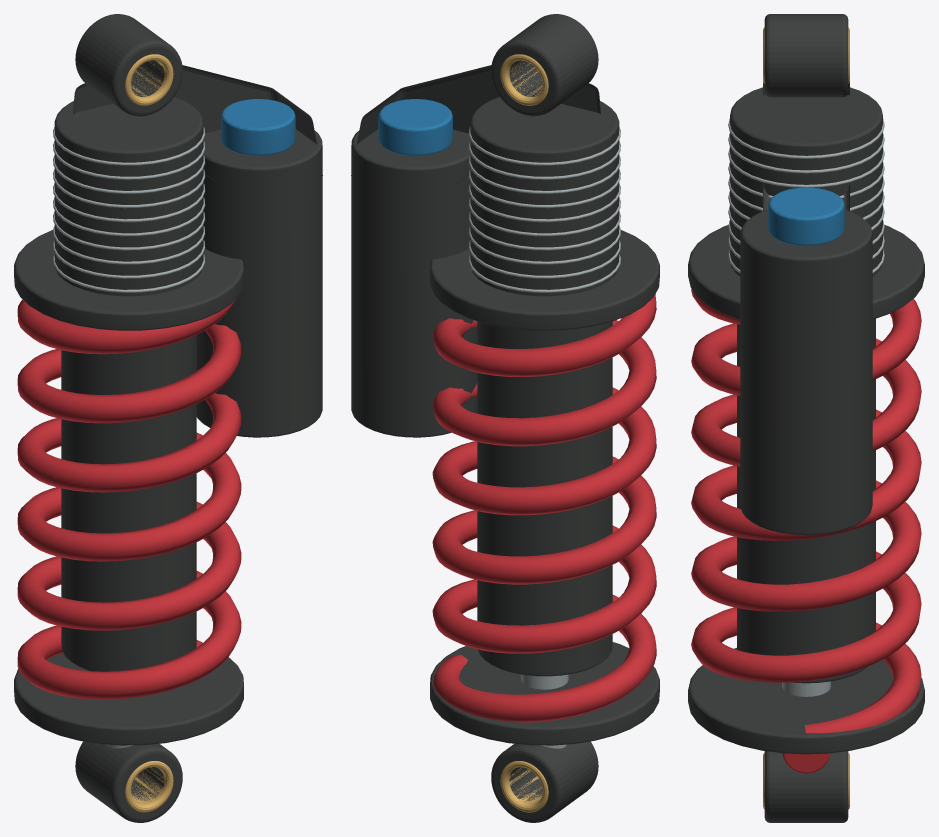
Rendered from rockshox-vivid-coil-ultimate-d1--3275cd7f.glb.
3 renders of one model, left to right at view 1: azimuth 30°, elevation 25°; view 2: azimuth 150°, elevation 25°; view 3: azimuth 270°, elevation 25°, orthographic. The views are drawn at different scales.
Visible parts, largest first — view 1: rockshox-vivid-coil-ultimate-d1--3275cd7f__link, rockshox-vivid-coil-ultimate-d1--3275cd7f__rebound, rockshox-vivid-coil-ultimate-d1--3275cd7f__bolts, rockshox-vivid-coil-ultimate-d1--3275cd7f__adjuster, rockshox-vivid-coil-ultimate-d1--3275cd7f__stanchions; view 2: rockshox-vivid-coil-ultimate-d1--3275cd7f__link, rockshox-vivid-coil-ultimate-d1--3275cd7f__rebound, rockshox-vivid-coil-ultimate-d1--3275cd7f__bolts, rockshox-vivid-coil-ultimate-d1--3275cd7f__adjuster, rockshox-vivid-coil-ultimate-d1--3275cd7f__stanchions; view 3: rockshox-vivid-coil-ultimate-d1--3275cd7f__link, rockshox-vivid-coil-ultimate-d1--3275cd7f__rebound, rockshox-vivid-coil-ultimate-d1--3275cd7f__bolts, rockshox-vivid-coil-ultimate-d1--3275cd7f__adjuster, rockshox-vivid-coil-ultimate-d1--3275cd7f__stanchions.
Part boxes in pixels (box(x1,y1,x2,y2)): rockshox-vivid-coil-ultimate-d1--3275cd7f__link: box(14, 14, 322, 822); rockshox-vivid-coil-ultimate-d1--3275cd7f__rebound: box(17, 299, 241, 699); rockshox-vivid-coil-ultimate-d1--3275cd7f__bolts: box(53, 127, 205, 748); rockshox-vivid-coil-ultimate-d1--3275cd7f__adjuster: box(221, 99, 295, 155); rockshox-vivid-coil-ultimate-d1--3275cd7f__stanchions: box(125, 54, 173, 812); rockshox-vivid-coil-ultimate-d1--3275cd7f__link: box(351, 14, 659, 822); rockshox-vivid-coil-ultimate-d1--3275cd7f__rebound: box(432, 294, 656, 722); rockshox-vivid-coil-ultimate-d1--3275cd7f__bolts: box(468, 127, 620, 748); rockshox-vivid-coil-ultimate-d1--3275cd7f__adjuster: box(378, 99, 452, 155); rockshox-vivid-coil-ultimate-d1--3275cd7f__stanchions: box(500, 54, 548, 812); rockshox-vivid-coil-ultimate-d1--3275cd7f__link: box(688, 14, 924, 822); rockshox-vivid-coil-ultimate-d1--3275cd7f__rebound: box(691, 289, 921, 773); rockshox-vivid-coil-ultimate-d1--3275cd7f__bolts: box(728, 118, 884, 696); rockshox-vivid-coil-ultimate-d1--3275cd7f__adjuster: box(768, 187, 844, 245); rockshox-vivid-coil-ultimate-d1--3275cd7f__stanchions: box(763, 27, 849, 809).
Size of the model in its own units: 0.097 by 0.254 by 0.068.
